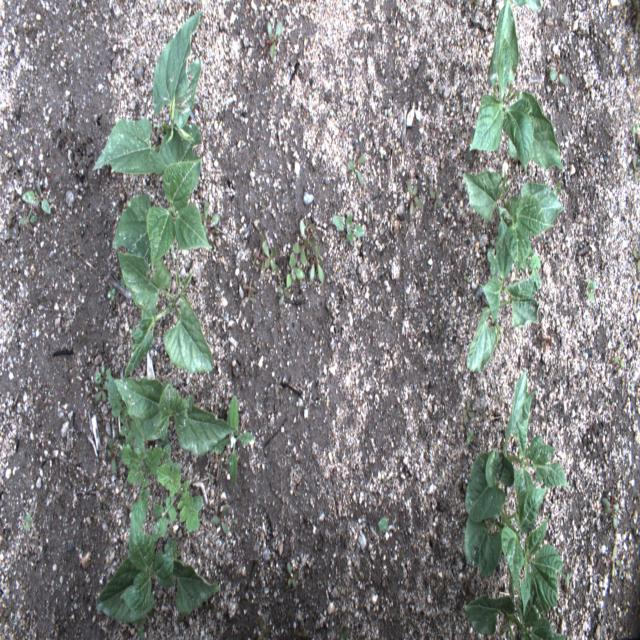crop: (464, 368, 572, 618), (92, 8, 202, 190), (466, 0, 565, 175), (96, 505, 220, 622), (118, 250, 215, 381), (112, 158, 216, 278), (460, 162, 566, 276), (466, 219, 538, 372), (113, 376, 238, 455), (462, 559, 569, 638)
weed: (106, 374, 161, 530), (152, 444, 205, 543), (210, 393, 256, 487), (292, 218, 324, 282), (253, 230, 278, 278), (21, 176, 51, 215), (332, 212, 366, 243), (263, 21, 283, 63), (600, 485, 618, 530), (286, 251, 306, 286), (406, 179, 424, 217), (346, 154, 366, 187), (105, 436, 122, 474), (549, 55, 568, 85), (212, 505, 229, 535), (429, 184, 442, 210), (94, 380, 110, 401), (288, 561, 298, 589), (19, 208, 37, 222)
